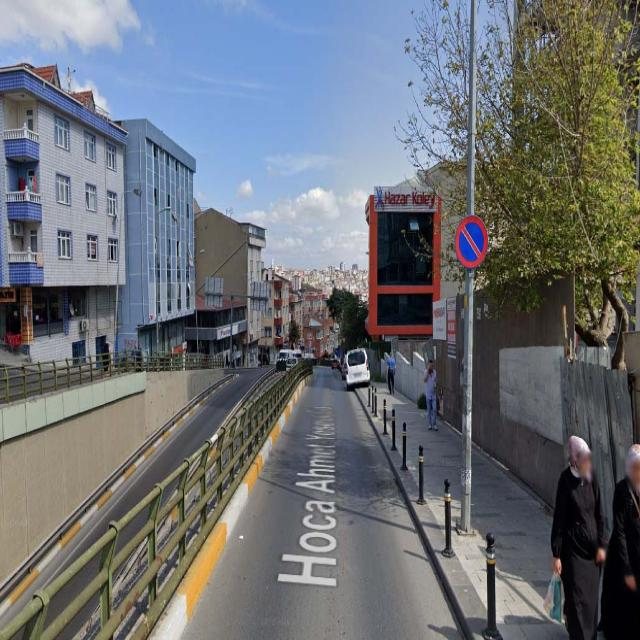parkyasak: (455, 217, 488, 269)
